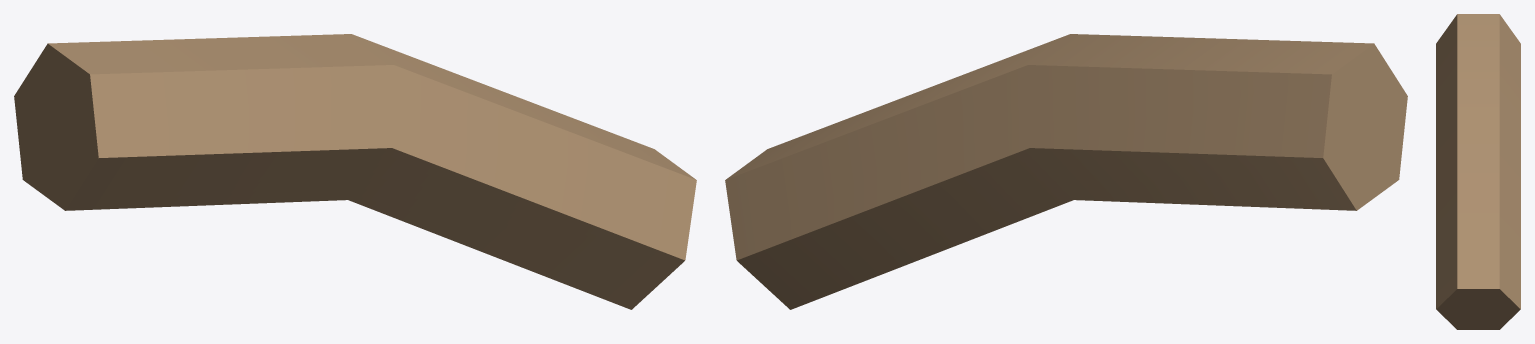
File: dog_tail.glb
3 renders of one model, left to right at view 1: azimuth 30°, elevation 25°; view 2: azimuth 150°, elevation 25°; view 3: azimuth 270°, elevation 25°, orthographic. The views are drawn at different scales.
Parts seen in each view (by area): view 1: boat_fur; view 2: boat_fur; view 3: boat_fur.
Part boxes in pixels (x1,y1,x2,y2): boat_fur: (14, 34, 696, 309); boat_fur: (725, 34, 1407, 309); boat_fur: (1436, 14, 1520, 329).
Bounding box in the file's own units: 0.2154 × 0.1198 × 0.05.
